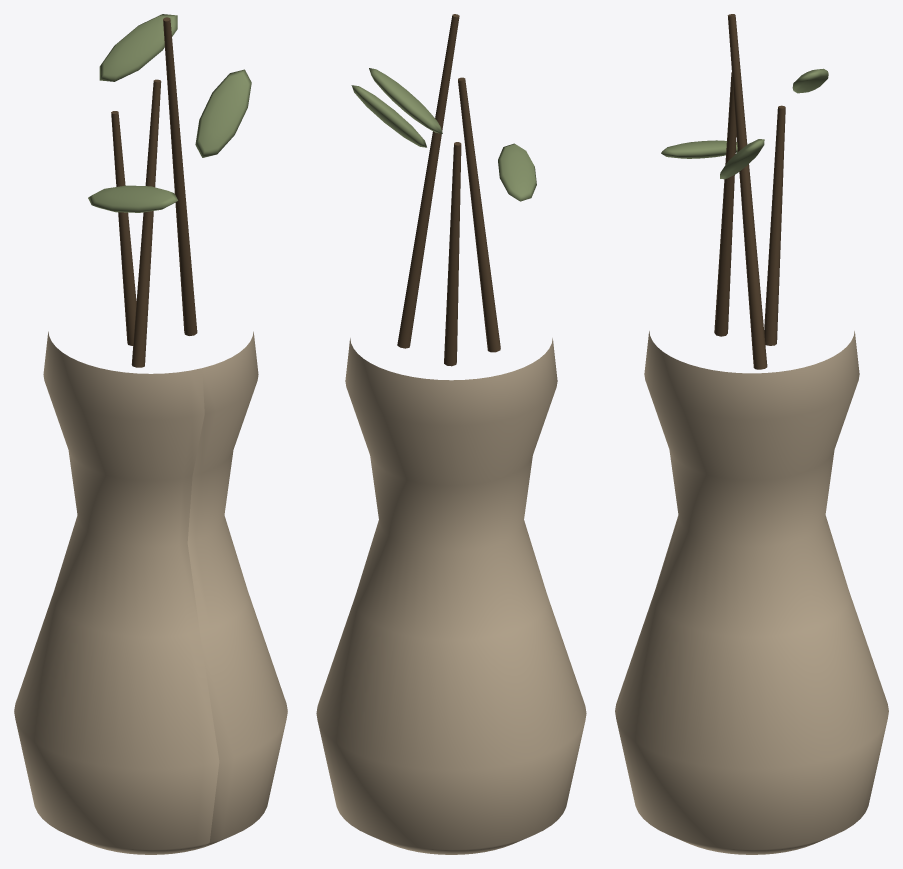
File: vase-sculptural.glb
3 views of the same model, side by side, from view 1: azimuth 30°, elevation 25°; view 2: azimuth 150°, elevation 25°; view 3: azimuth 270°, elevation 25° (orthographic).
Visible parts, largest first — view 1: Corps, Tige (×3), Feuille (×3); view 2: Corps, Tige (×3), Feuille (×3); view 3: Corps, Tige (×3), Feuille (×3).
Boxes of the visible parts, x1,y1,x2,y2 form: Corps: [14, 331, 287, 854]; Tige (×3): [111, 17, 197, 367]; Feuille (×3): [88, 14, 251, 212]; Corps: [316, 338, 586, 854]; Tige (×3): [397, 14, 500, 366]; Feuille (×3): [351, 68, 536, 201]; Corps: [615, 331, 888, 854]; Tige (×3): [714, 14, 785, 369]; Feuille (×3): [661, 68, 828, 179].
Bounding box in the file's own units: 0.28 × 0.9086 × 0.28.
